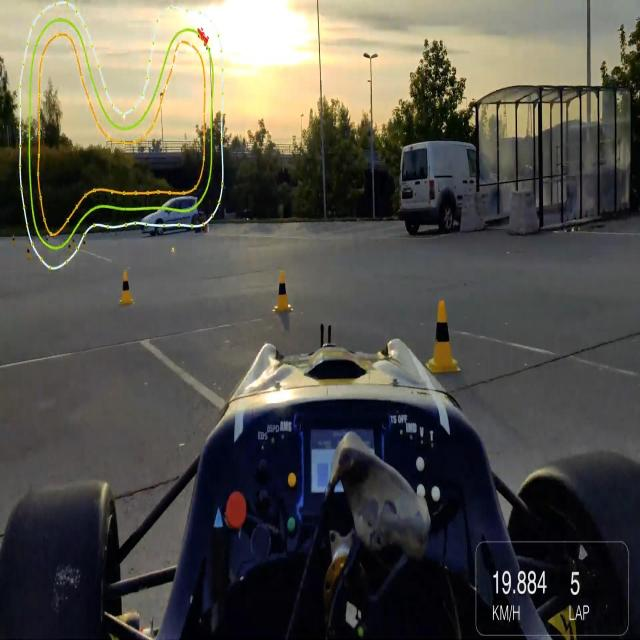yellow_cone: (427, 297, 463, 374), (272, 266, 294, 316), (118, 266, 136, 308), (25, 243, 32, 260), (81, 234, 87, 251), (66, 238, 72, 255), (71, 234, 76, 251)
